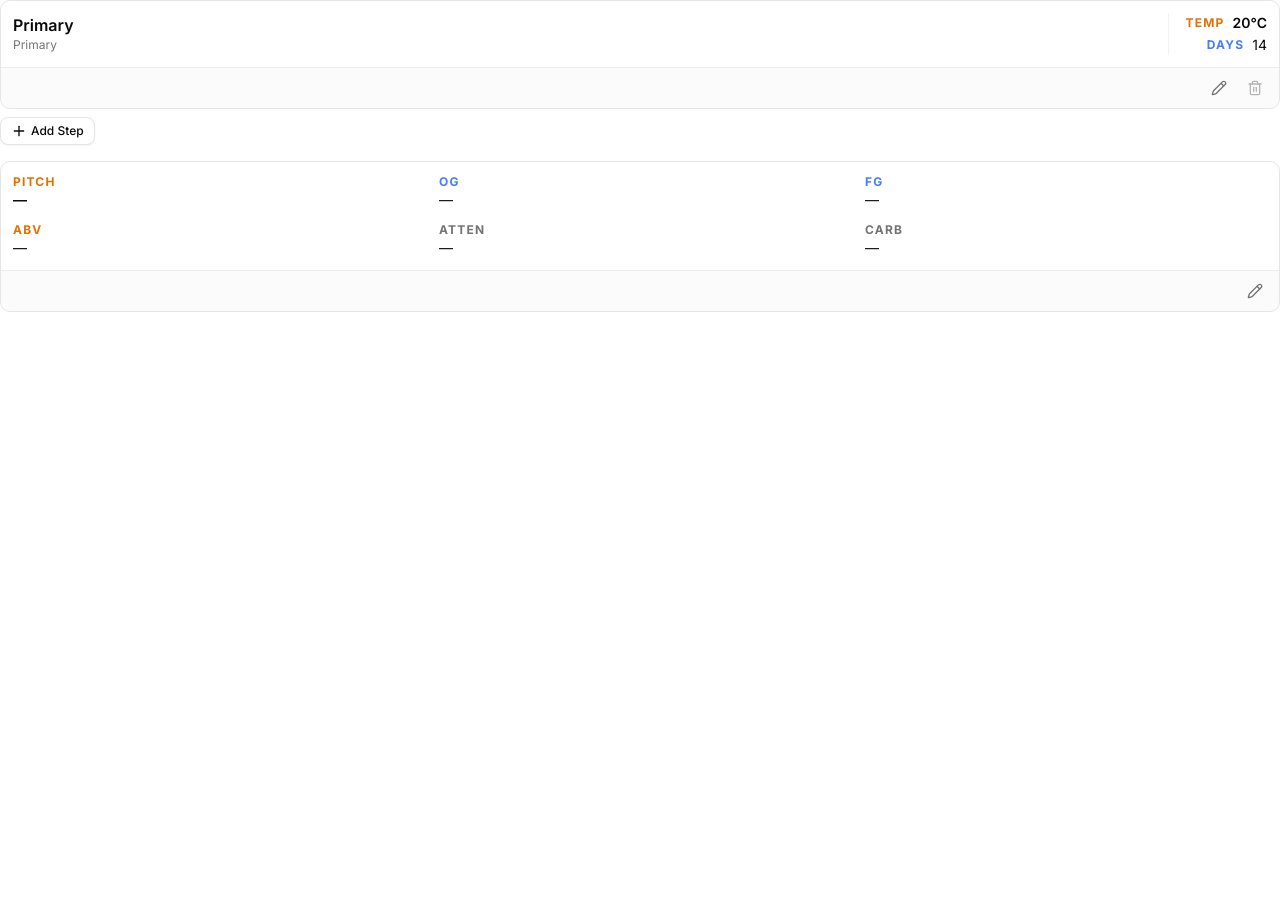
Test case: FermentationSection › edit step flow › pencil button opens the edit dialog with title "Edit Step"
Click the button named "edit fermentation step" at (1219, 88), box [1203,72,1235,104]
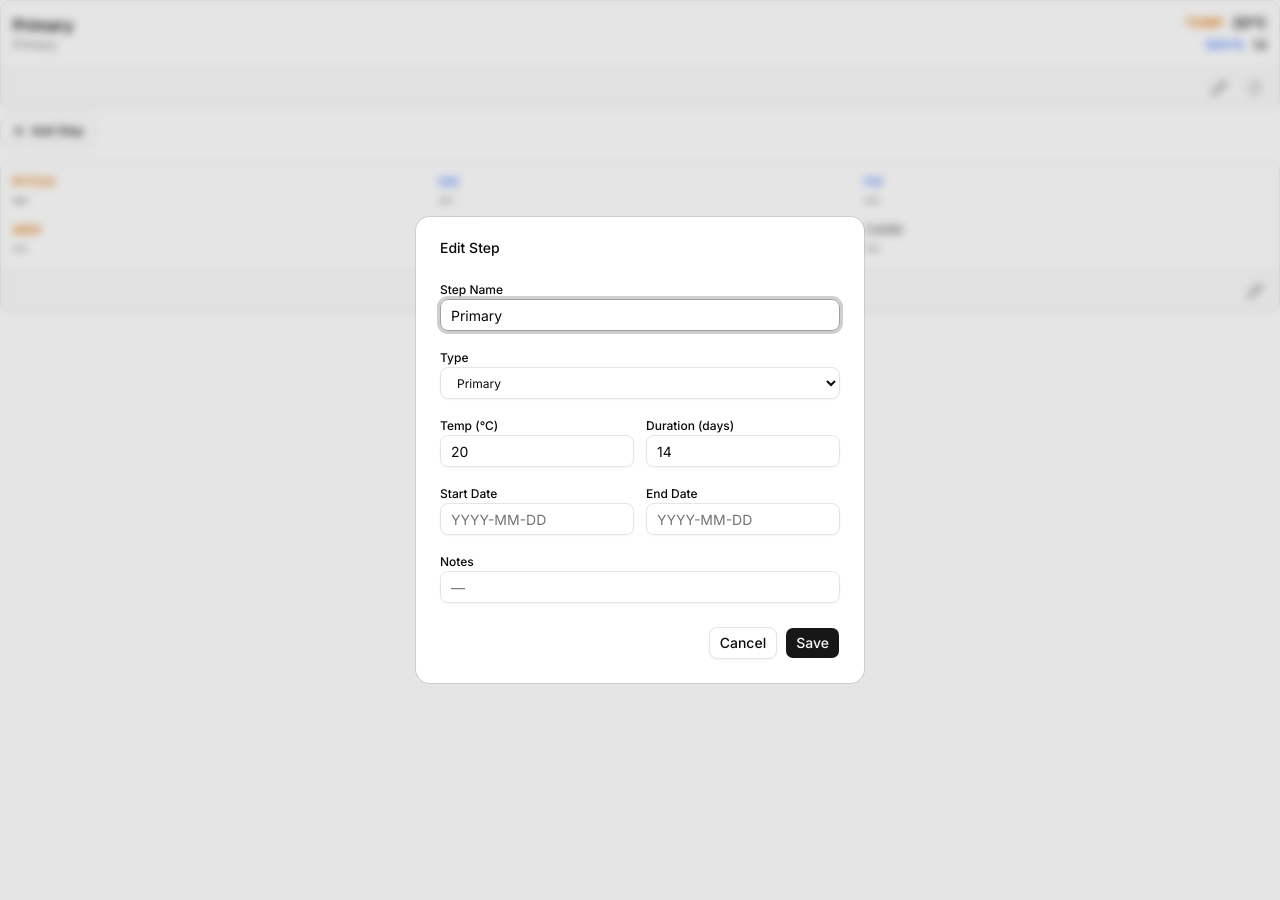
Result: the heading "Edit Step" is shown at [440,239,500,256]
